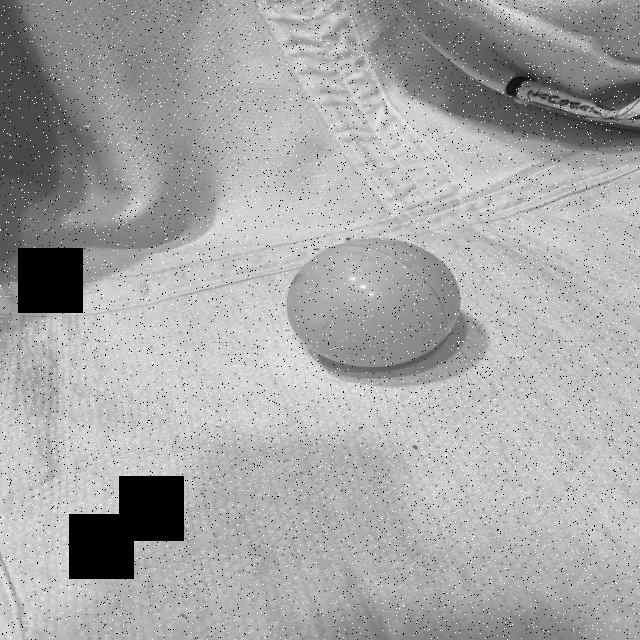ball: (284, 235, 464, 371)
